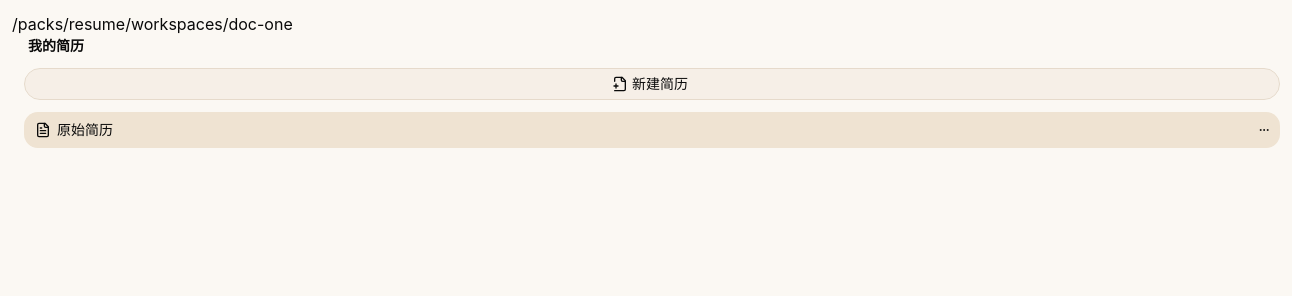
Scenario: ResumeDocumentList actions › flushes the canvas before making a copy and opens the independent copy
The width and height of the screenshot is (1292, 296).
Press ArrowDown in the button named "管理简历 原始简历", box left=1252, top=118, right=1276, bottom=142
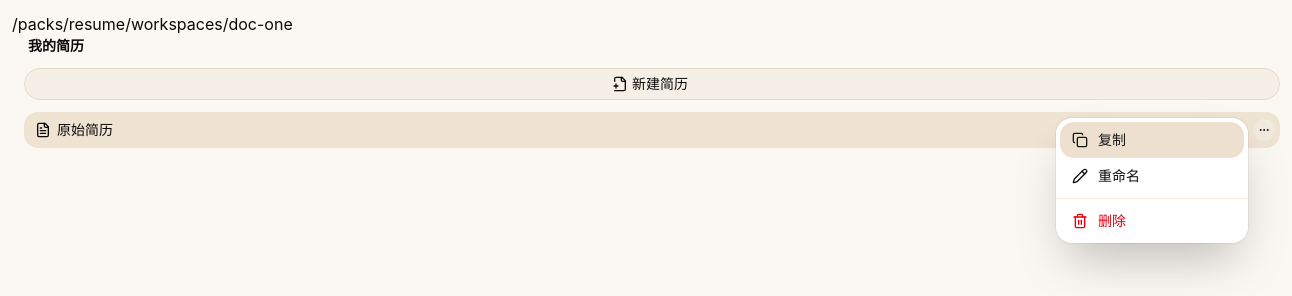
Click the menu item "复制": (1152, 140) left=1060, top=122, right=1244, bottom=158
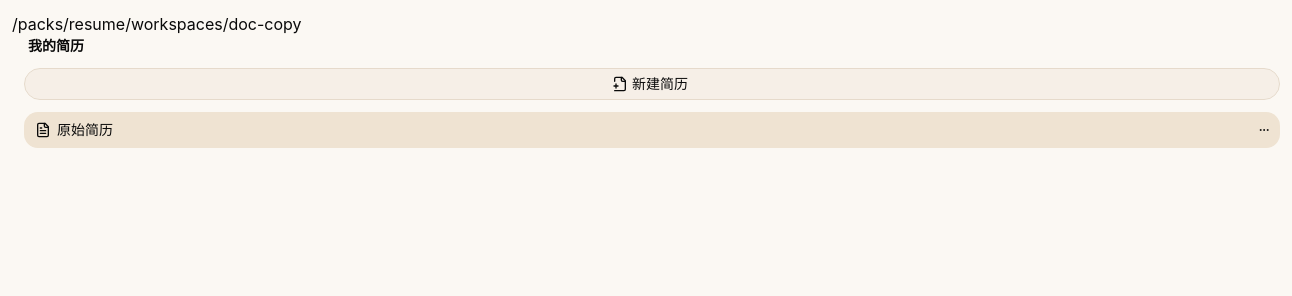
Check: the text with test id "location" shows "/workspaces/doc-copy", box left=12, top=14, right=302, bottom=34
